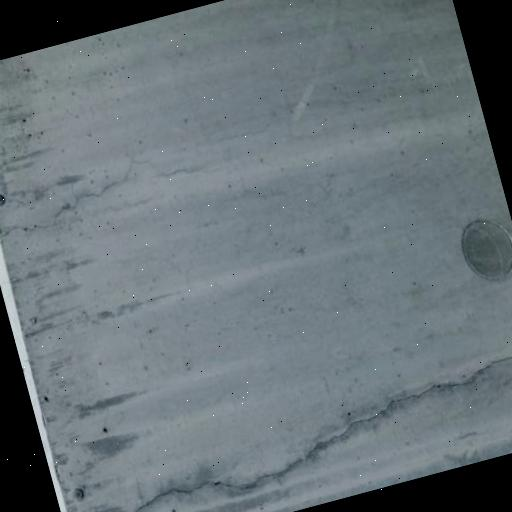spalling: (127, 344, 512, 512)
